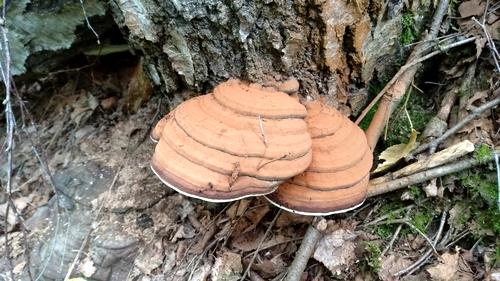Ganoderma - Fruit Body: (146, 78, 374, 215)
